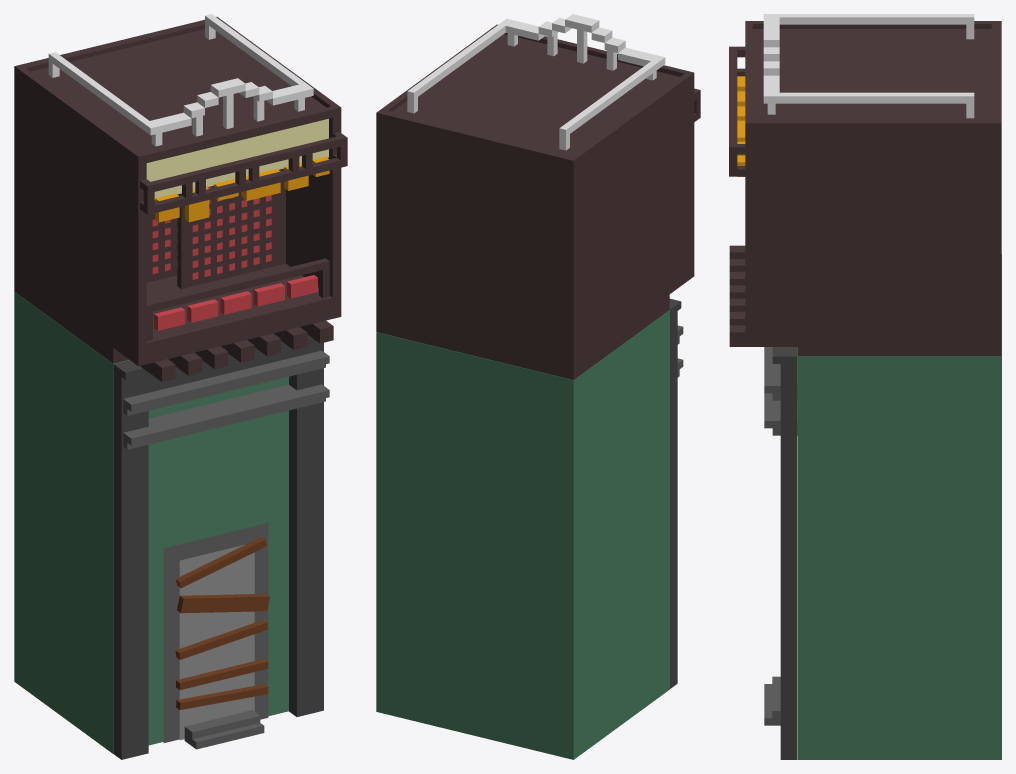
Rendered from Building_3.FBX.
3 views of the same model, side by side, from view 1: azimuth 30°, elevation 25°; view 2: azimuth 150°, elevation 25°; view 3: azimuth 270°, elevation 25° (orthographic). The views are drawn at different scales.
Parts seen in each view (by area): view 1: Building_3; view 2: Building_3; view 3: Building_3.
Part boxes in pixels (x1=…): Building_3: x1=14, y1=14, x2=347, y2=759; Building_3: x1=376, y1=14, x2=700, y2=759; Building_3: x1=729, y1=14, x2=1001, y2=759.
Bounding box in the file's own units: 59.7 × 184 × 67.26.
1 material, 1 textured.
